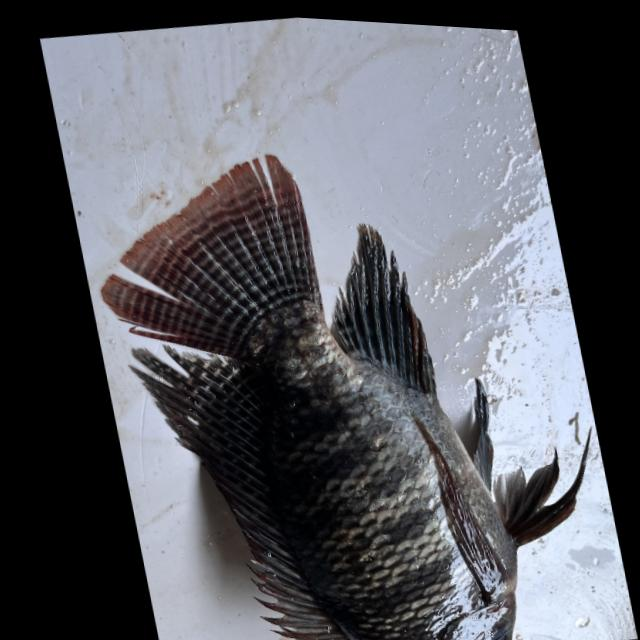Tilapia: (76, 106, 637, 640)
